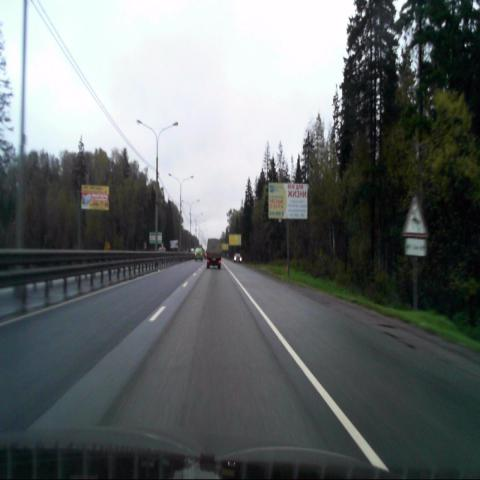1_27: (402, 195, 429, 237)
